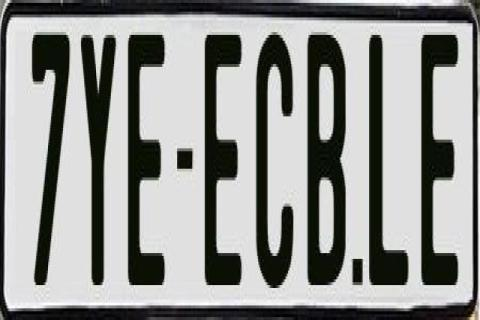0: (30, 32, 70, 296)
B: (304, 29, 344, 294)
C: (253, 32, 296, 288)
E: (202, 35, 244, 297), (128, 29, 168, 294), (419, 29, 455, 282)
L: (368, 35, 408, 297)
Y: (78, 27, 119, 280)
